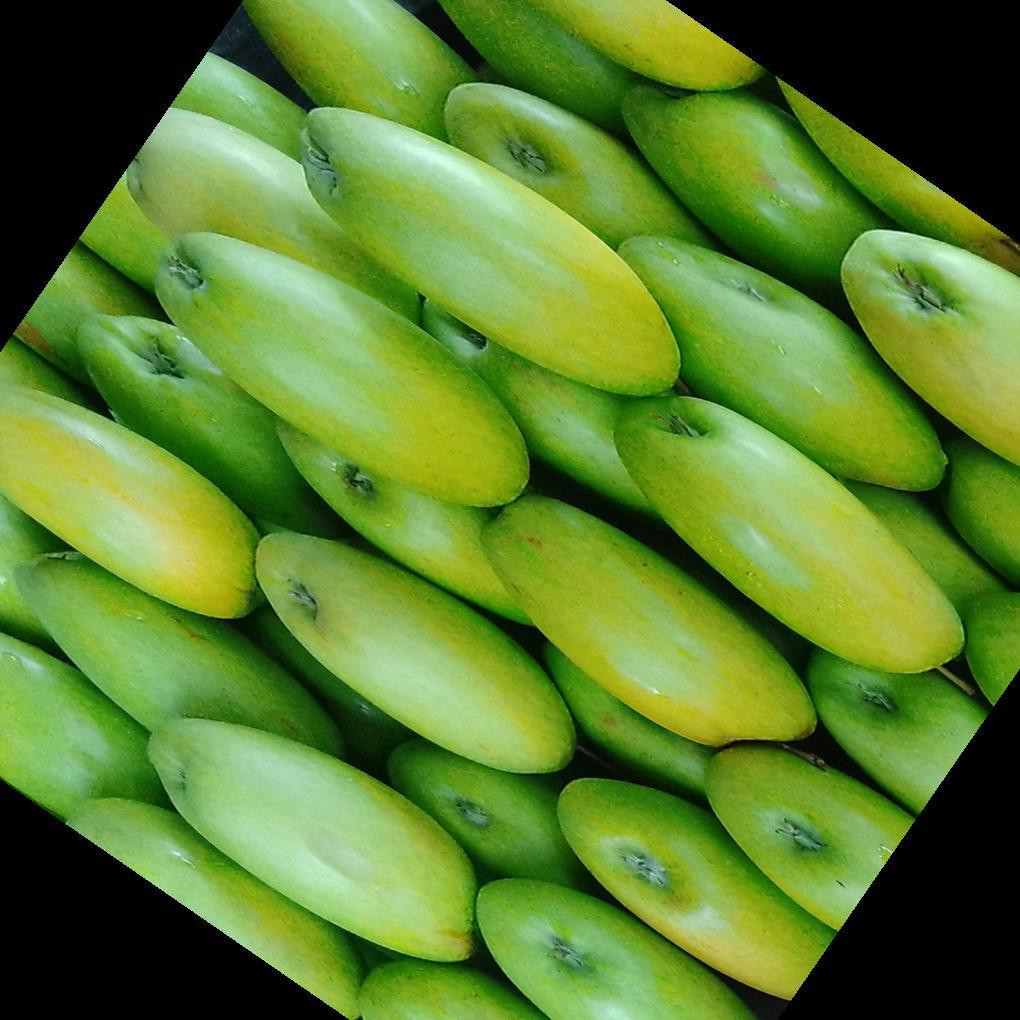FreshGuava: (16, 15, 1020, 1020)
